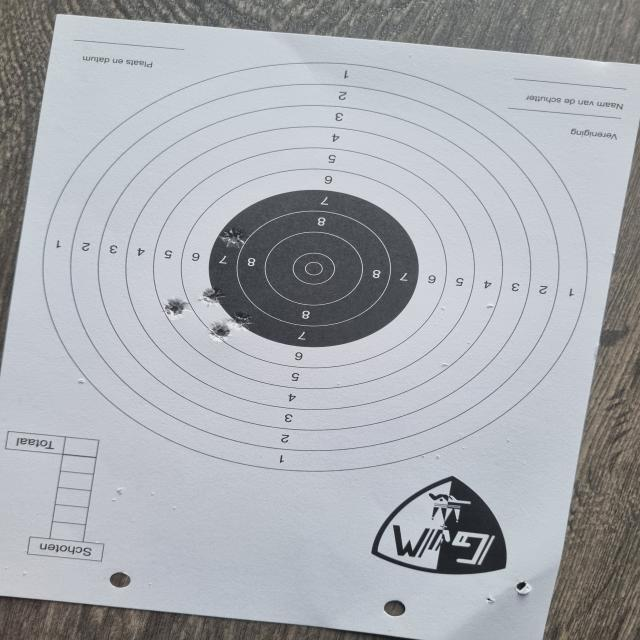5: (160, 299, 190, 316)
6: (208, 322, 230, 341)
7: (226, 312, 255, 329), (219, 230, 245, 248), (199, 288, 225, 304)
Target: (42, 55, 590, 474)
black_contour: (208, 192, 420, 348)
